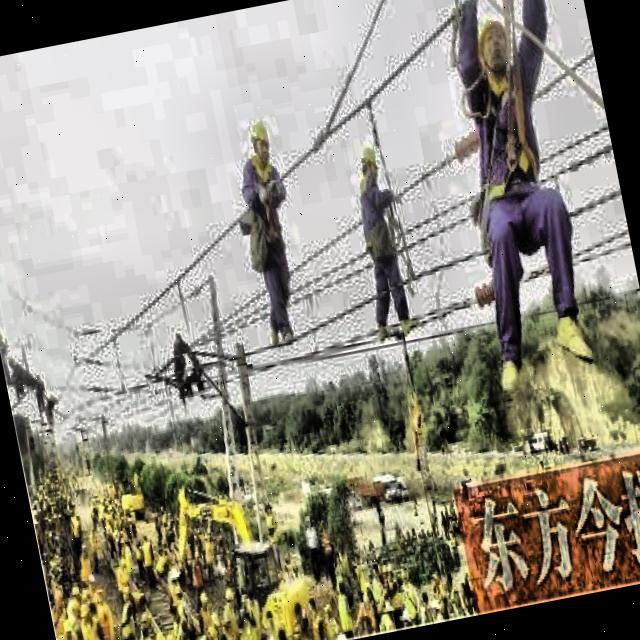helmet: (467, 0, 522, 101), (242, 110, 276, 170), (352, 135, 382, 187)
